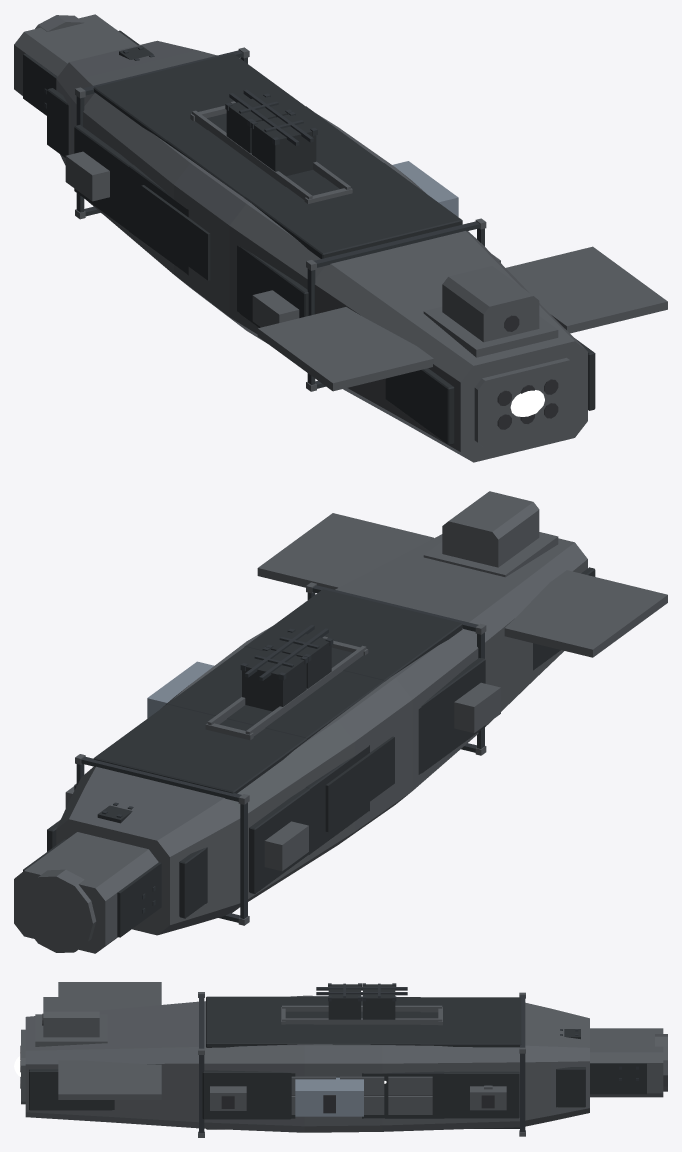
3 renders of one model, top to bottom at view 1: azimuth 30°, elevation 25°; view 2: azimuth 150°, elevation 25°; view 3: azimuth 270°, elevation 25°, orthographic. The views are drawn at different scales.
Parts seen in each view (by area): view 1: RIMWARD_HULL, RIMWARD_ENGINE_GLOW; view 2: RIMWARD_HULL; view 3: RIMWARD_HULL.
Boxes of the visible parts, <box> form: RIMWARD_HULL: <box>14,14,667,462</box>; RIMWARD_ENGINE_GLOW: <box>510,390,544,416</box>; RIMWARD_HULL: <box>14,491,667,953</box>; RIMWARD_HULL: <box>20,982,667,1137</box>.
Bounding box in the file's own units: 6.96 × 3.52 × 17.14.
